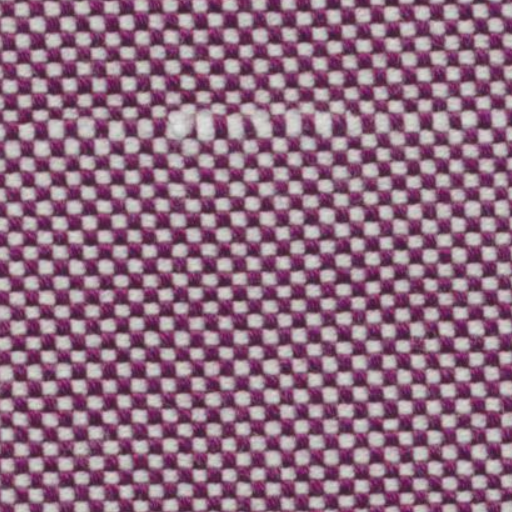DaiSha: (57, 96, 413, 155)
